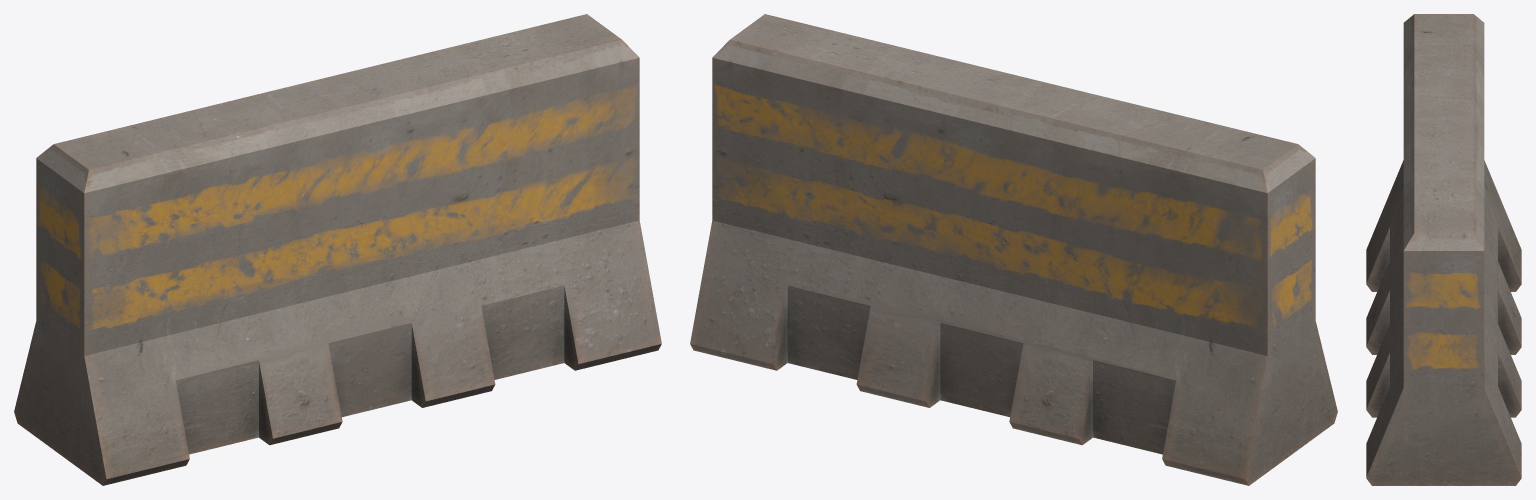
The model's file is ROD0110009.FBX.
3 views of the same model, side by side, from view 1: azimuth 30°, elevation 25°; view 2: azimuth 150°, elevation 25°; view 3: azimuth 270°, elevation 25° (orthographic). The views are drawn at different scales.
Parts seen in each view (by area): view 1: smROD0110009; view 2: smROD0110009; view 3: smROD0110009.
Boxes of the visible parts, box(x1,y1,x2,y2) form: smROD0110009: box(14, 14, 661, 485); smROD0110009: box(690, 14, 1337, 485); smROD0110009: box(1366, 14, 1521, 485).
Size of the model in its own units: 59.68 by 30.29 by 17.2.
Materials: 1 (1 with a texture image).
